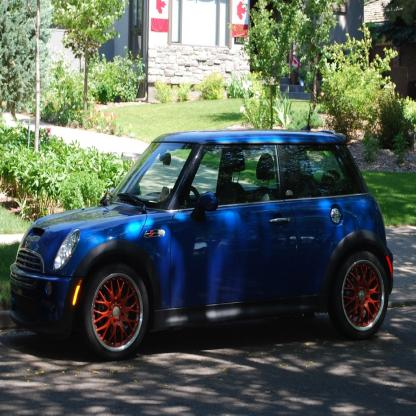Car: (11, 71, 395, 361)
